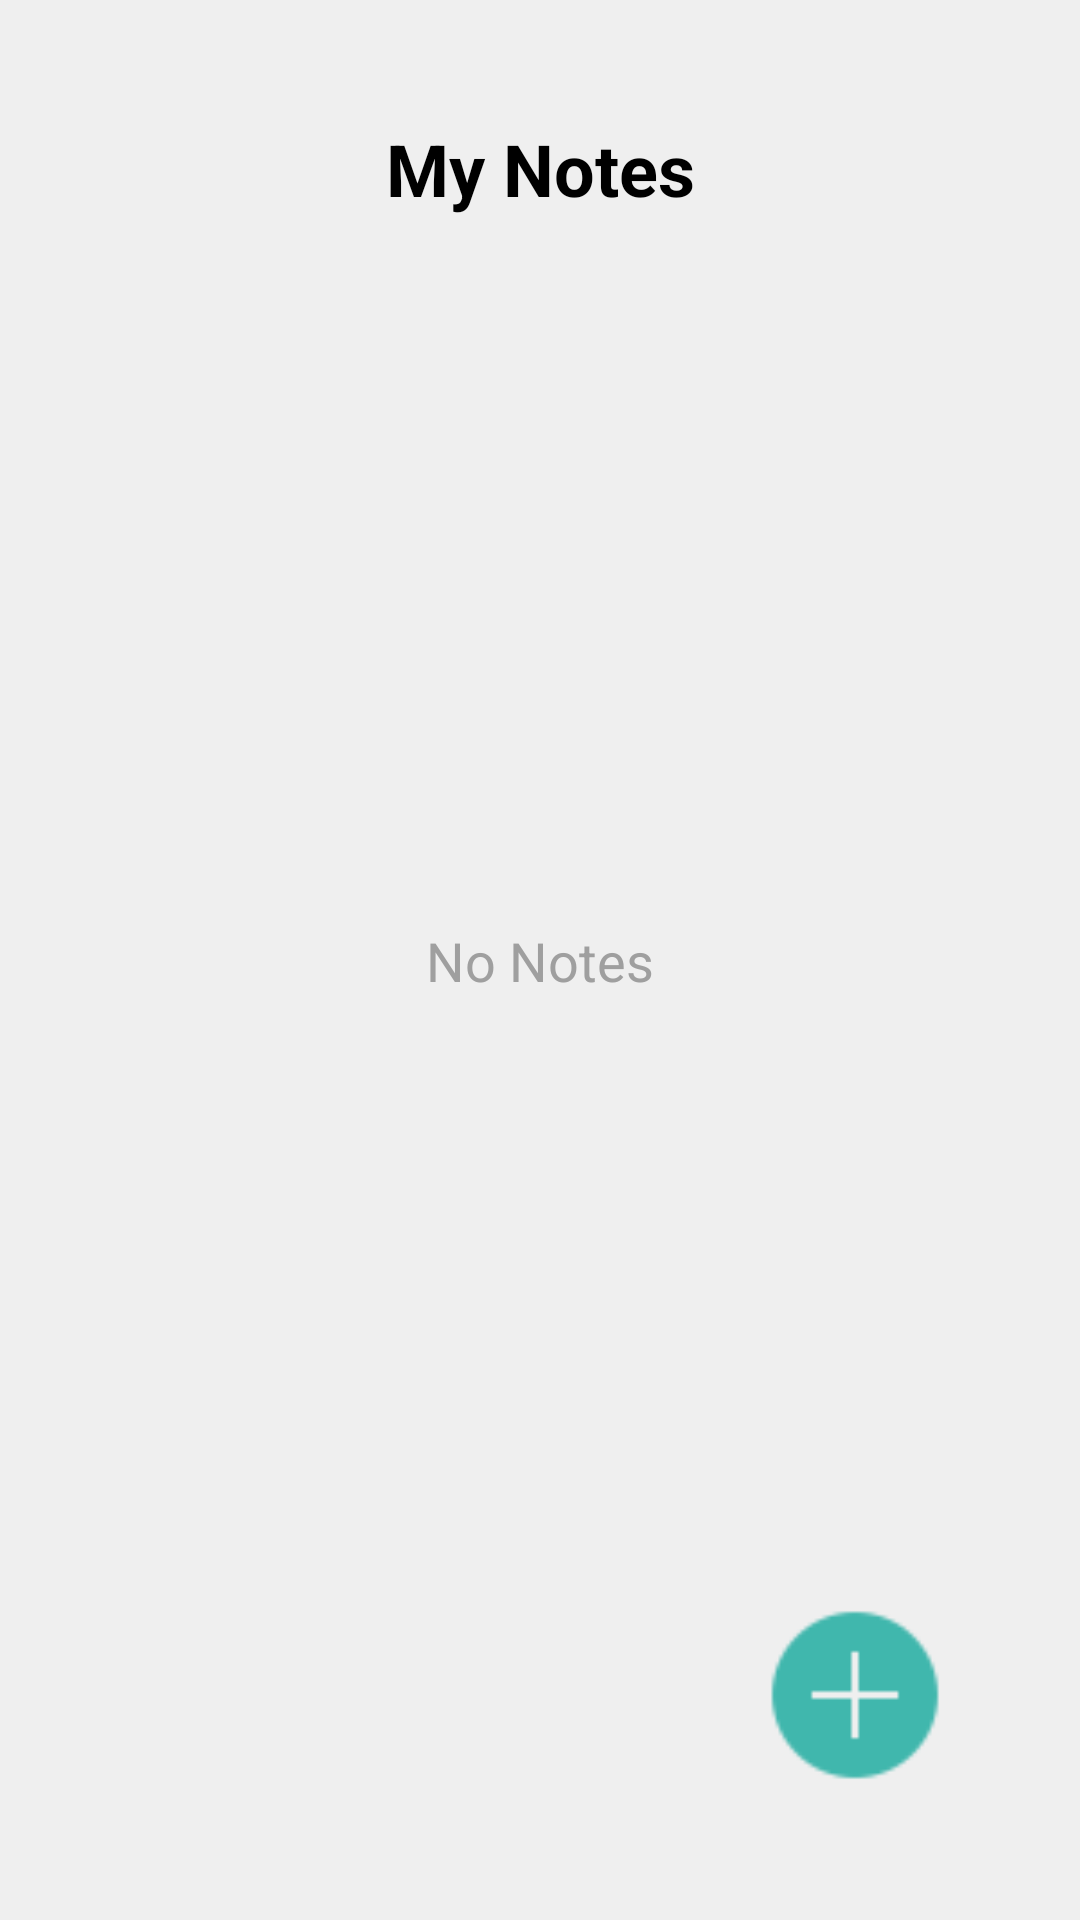

Point at icon controls on the screen. Image size 1080*1920, points as [x,y].
plus: [855,1695]
